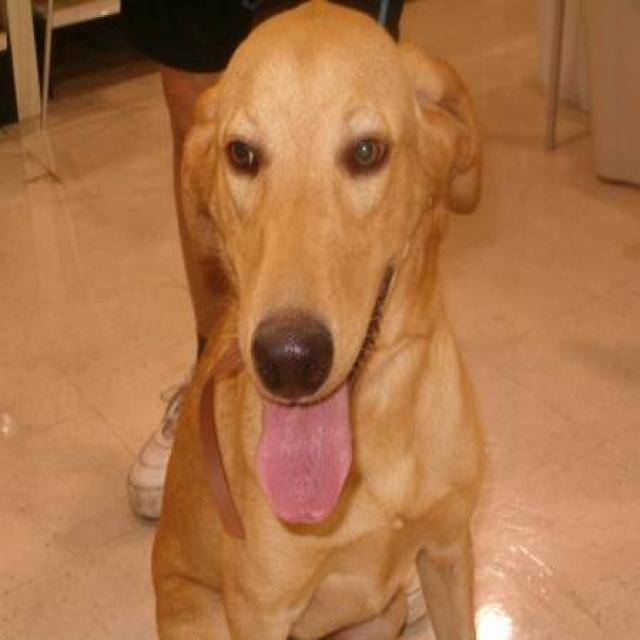dogs: (146, 0, 530, 640)
